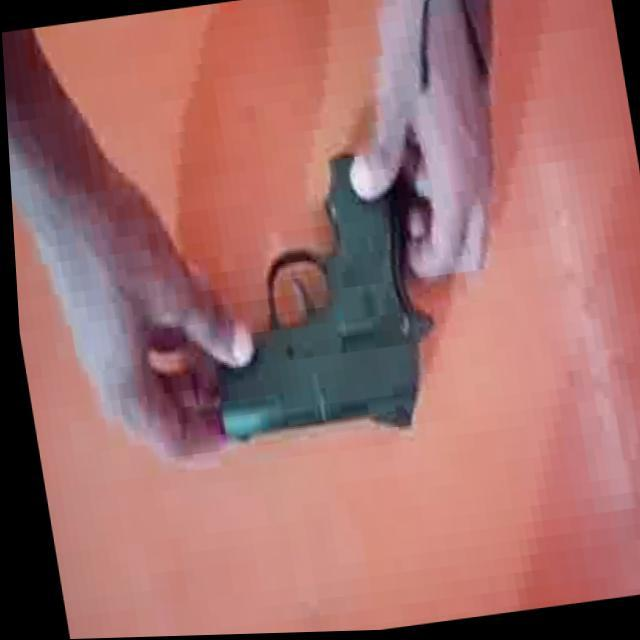weapon: (170, 130, 457, 457)
